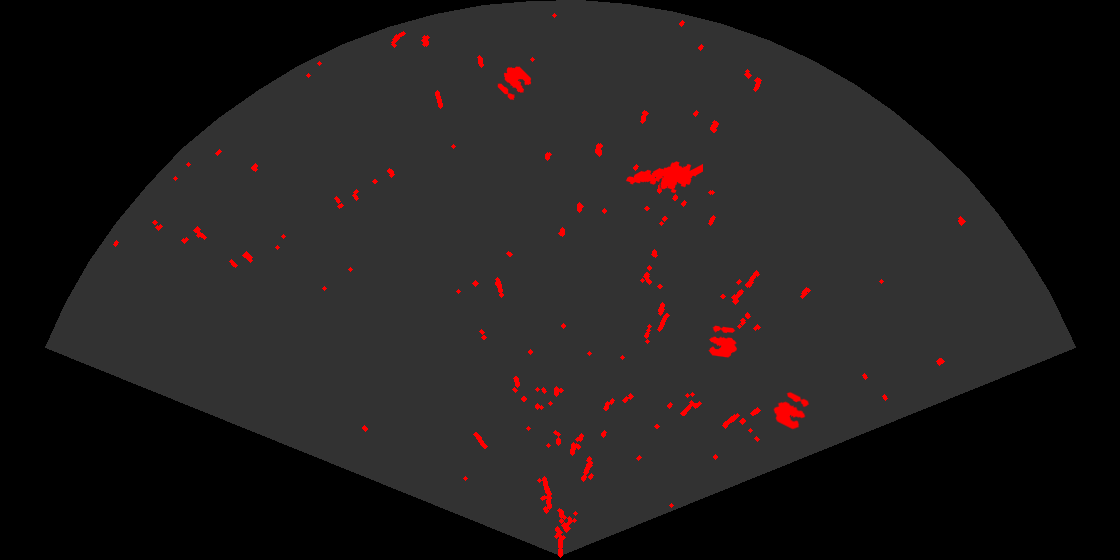ball: (772, 390, 811, 431), (496, 65, 533, 102), (707, 324, 738, 359)
frogman: (624, 160, 703, 195)
